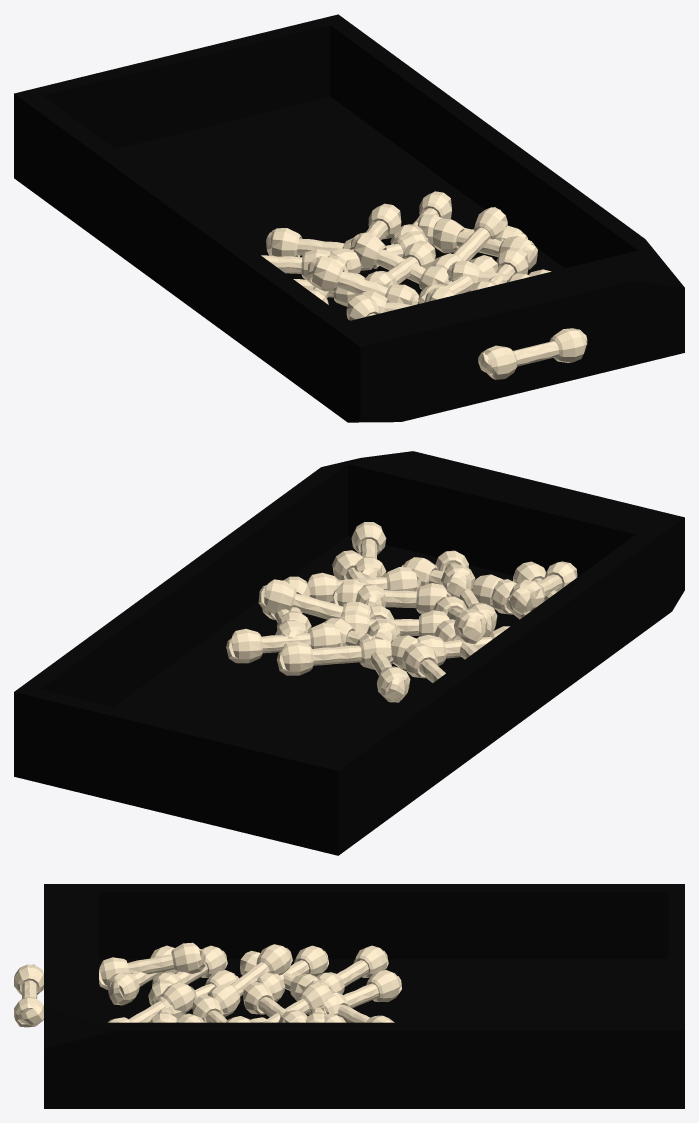
File: drawer2.FBX
3 renders of one model, top to bottom at view 1: azimuth 30°, elevation 25°; view 2: azimuth 150°, elevation 25°; view 3: azimuth 270°, elevation 25°, orthographic. The views are drawn at different scales.
Visible parts, largest first — view 1: Object001, Object002; view 2: Object001, Object002; view 3: Object001, Object002.
Boxes of the visible parts, x1,y1,x2,y2 form: Object001: (14,14,684,422); Object002: (261,191,551,320); Object001: (14,451,684,855); Object002: (226,522,577,702); Object001: (14,884,684,1108); Object002: (99,942,401,1022).
Bounding box in the file's own units: 20.06 × 38.86 × 5.02.
